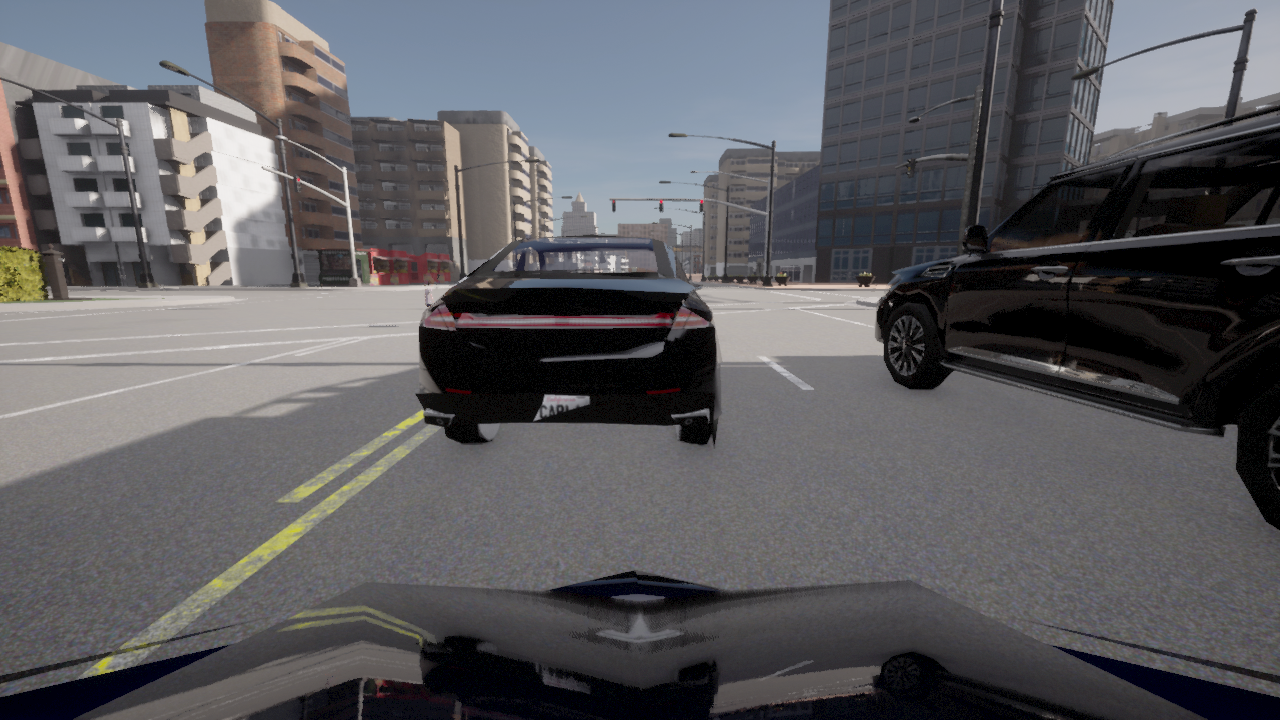cyclist: (0, 569, 1279, 719), (874, 105, 1279, 529), (415, 234, 722, 449)
pedestrian: (424, 279, 434, 307), (437, 266, 441, 283)
